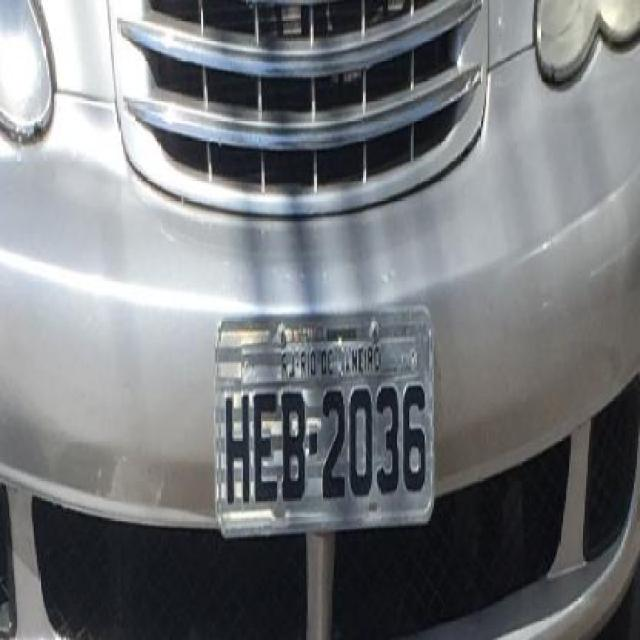old_plate: (205, 292, 445, 548)
